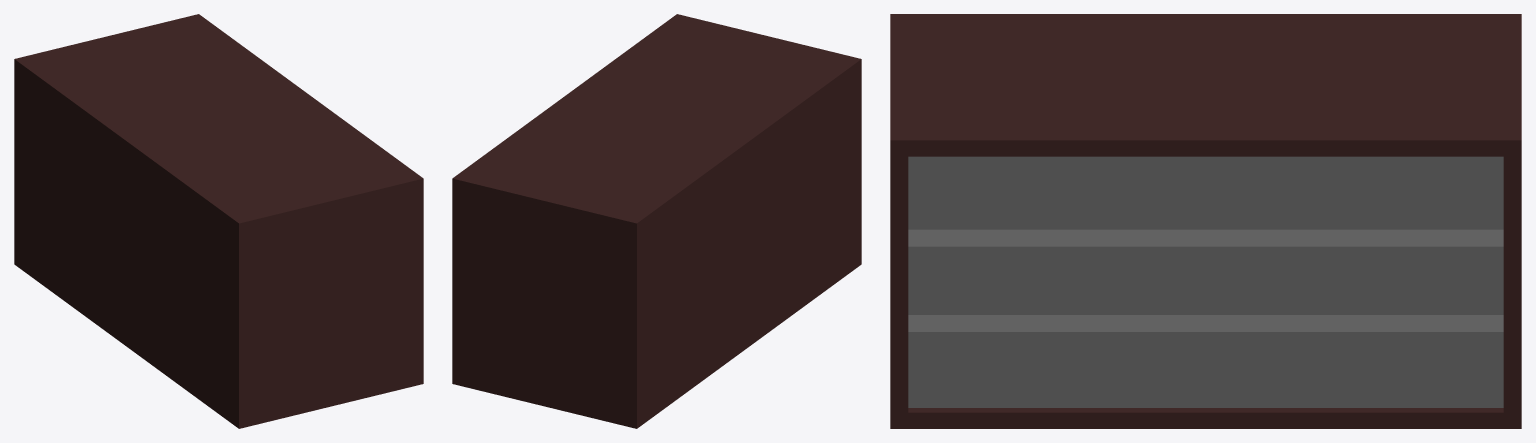
Rendered from Chest.fbx.
The picture shows the model from 3 angles, left to right: view 1: azimuth 30°, elevation 25°; view 2: azimuth 150°, elevation 25°; view 3: azimuth 270°, elevation 25°; orthographic projection. The views are drawn at different scales.
Parts seen in each view (by area): view 1: Cube.004; view 2: Cube.004; view 3: Cube.004.
Part boxes in pixels (x1,y1,x2,y2): Cube.004: [14, 14, 423, 428]; Cube.004: [452, 14, 861, 428]; Cube.004: [890, 14, 1521, 428].
Bounding box in the file's own units: 0.3543 × 0.377 × 0.7475.
